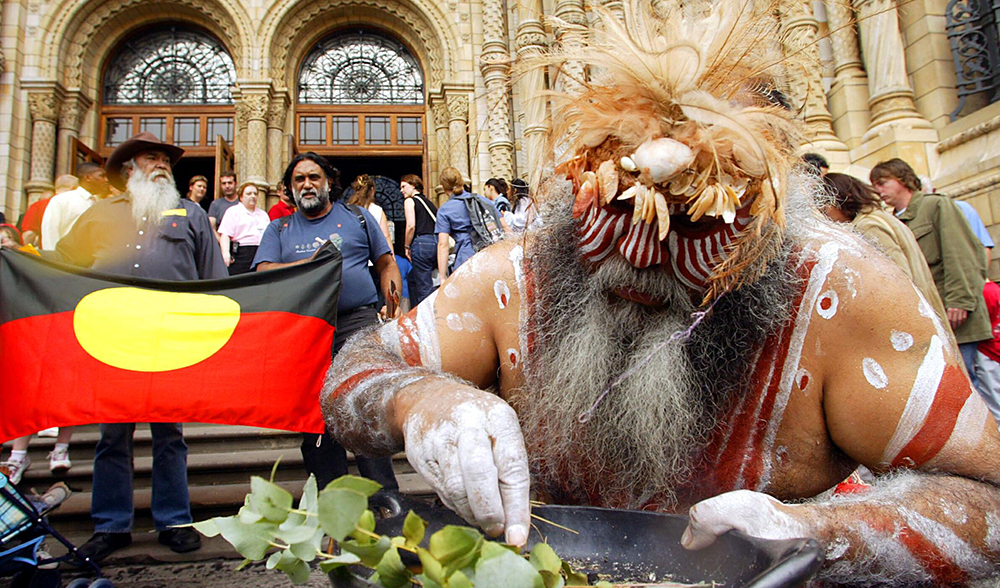aboriginal_flag: (1, 239, 348, 453)
